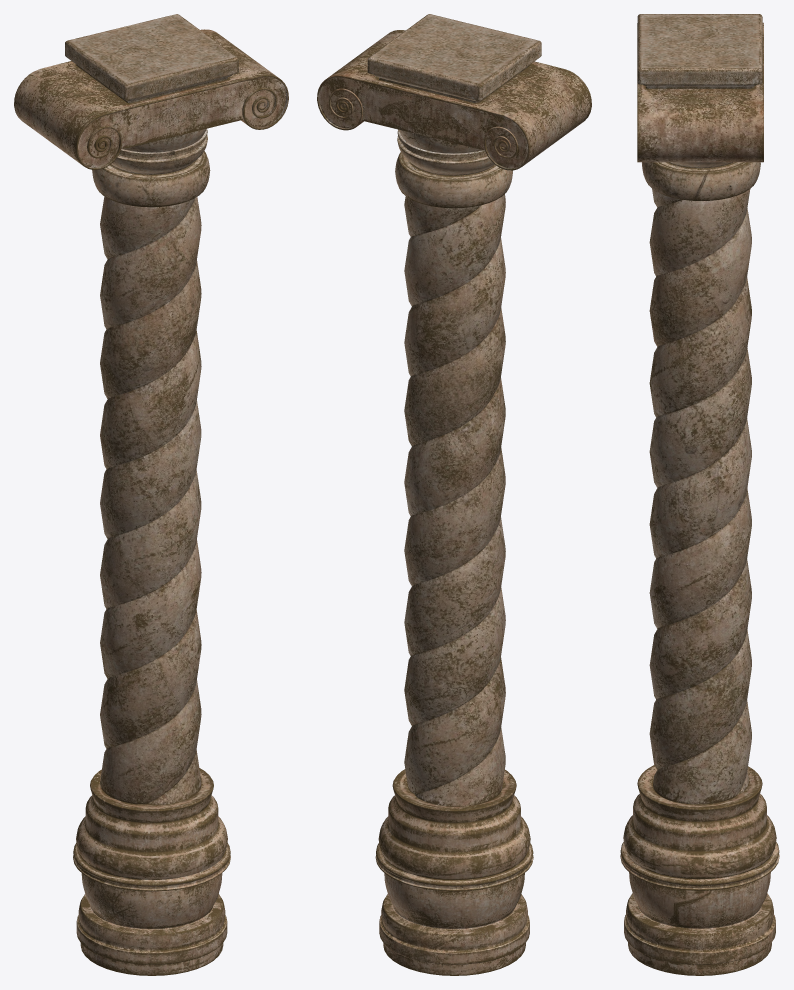
The model's file is greek_underwater_column_2.glb.
The picture shows the model from 3 angles, left to right: view 1: azimuth 30°, elevation 25°; view 2: azimuth 150°, elevation 25°; view 3: azimuth 270°, elevation 25°; orthographic projection.
Visible parts, largest first — view 1: mesh_01_low, mesh_02_low; view 2: mesh_01_low, mesh_02_low; view 3: mesh_01_low, mesh_02_low.
Boxes of the visible parts, x1,y1,x2,y2 form: mesh_01_low: (65,14,238,804); mesh_02_low: (14,29,288,975); mesh_01_low: (367,14,541,806); mesh_02_low: (317,30,591,975); mesh_01_low: (637,14,762,804); mesh_02_low: (620,22,779,975).
Bounding box in the file's own units: 98.15 × 396 × 63.22.
2 materials, 2 textured.
